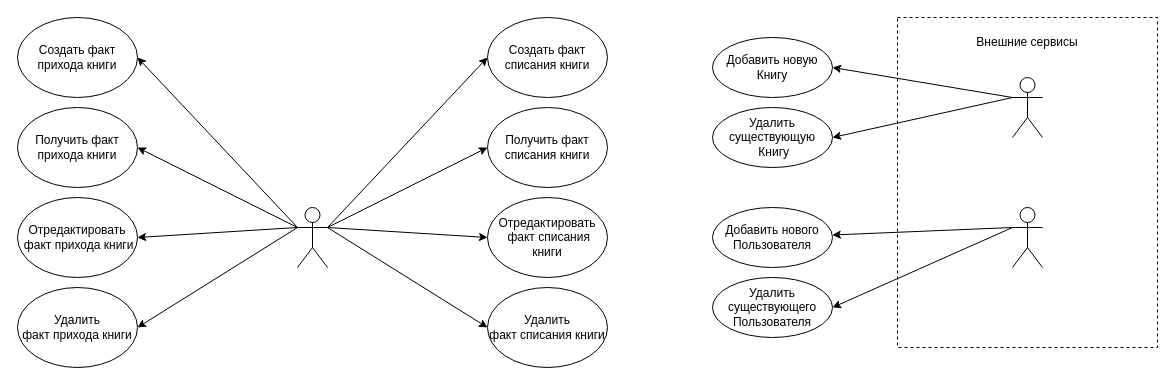
Some shapes in this 1175 by 385 pixel diagram are drawn without their labels. The shapes that lost their labels are listed below. From the top down, each one's centre as x and y in pixels, then its label:
At (x=1027, y=107): "Сервис Каталог".
At (x=312, y=237): "Пользователь".
At (x=1027, y=237): "Сервис Аутентификации и Авторизации".
